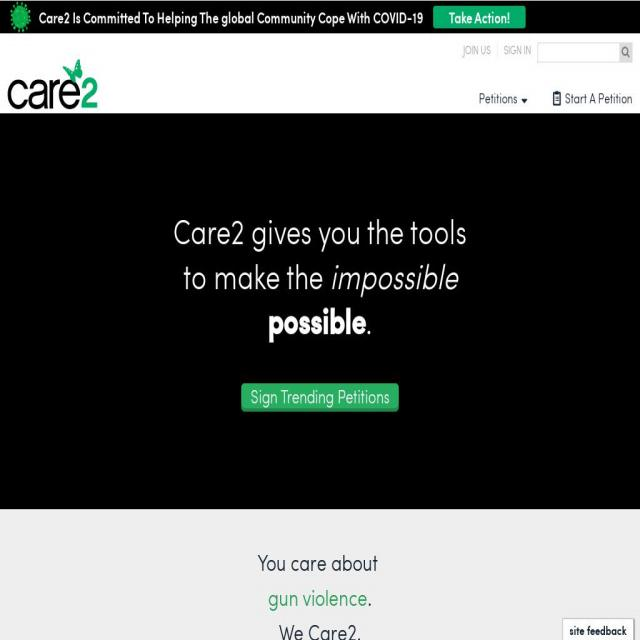login-option: (502, 44, 538, 64)
navigation-links: (475, 88, 639, 108)
search: (544, 37, 638, 70)
sign-up-option: (459, 42, 495, 62)
